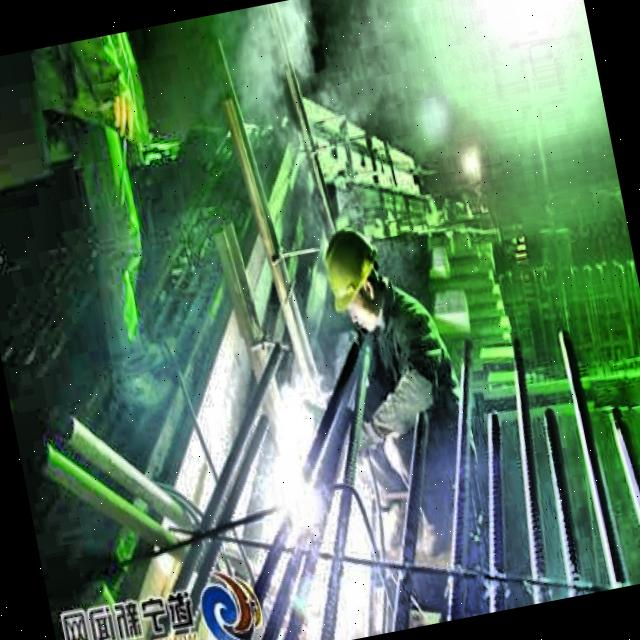helmet: (308, 210, 392, 326)
